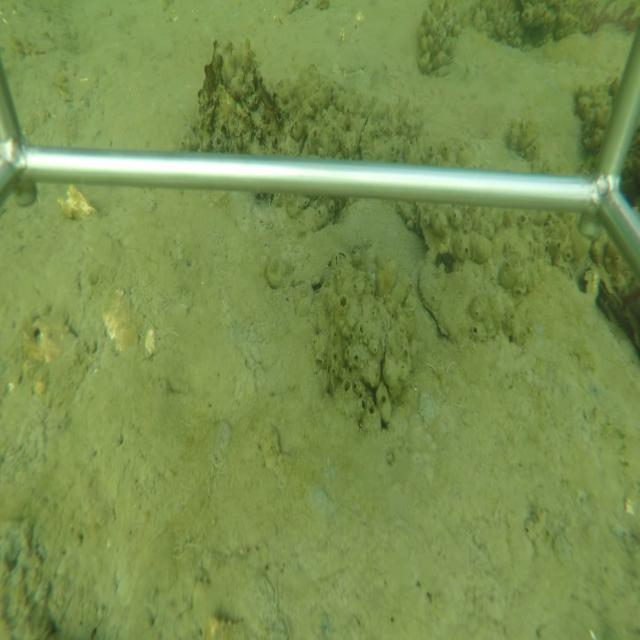Oyster-Closed: (417, 258, 528, 345)
